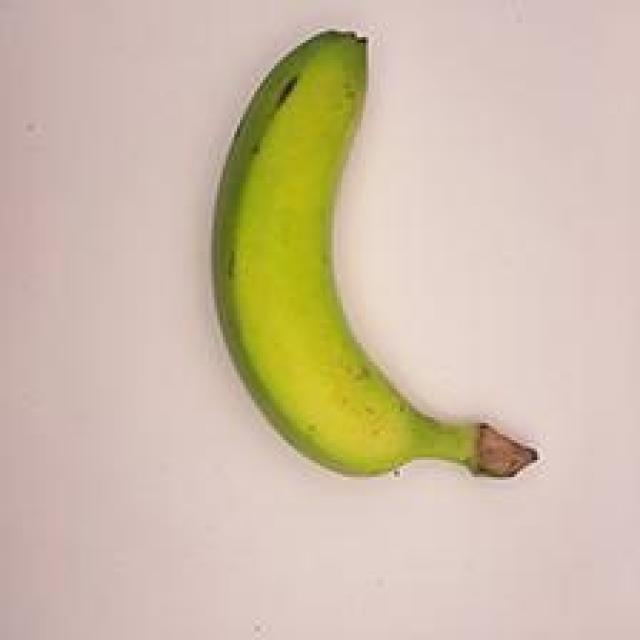Unripe: (159, 0, 554, 522)
